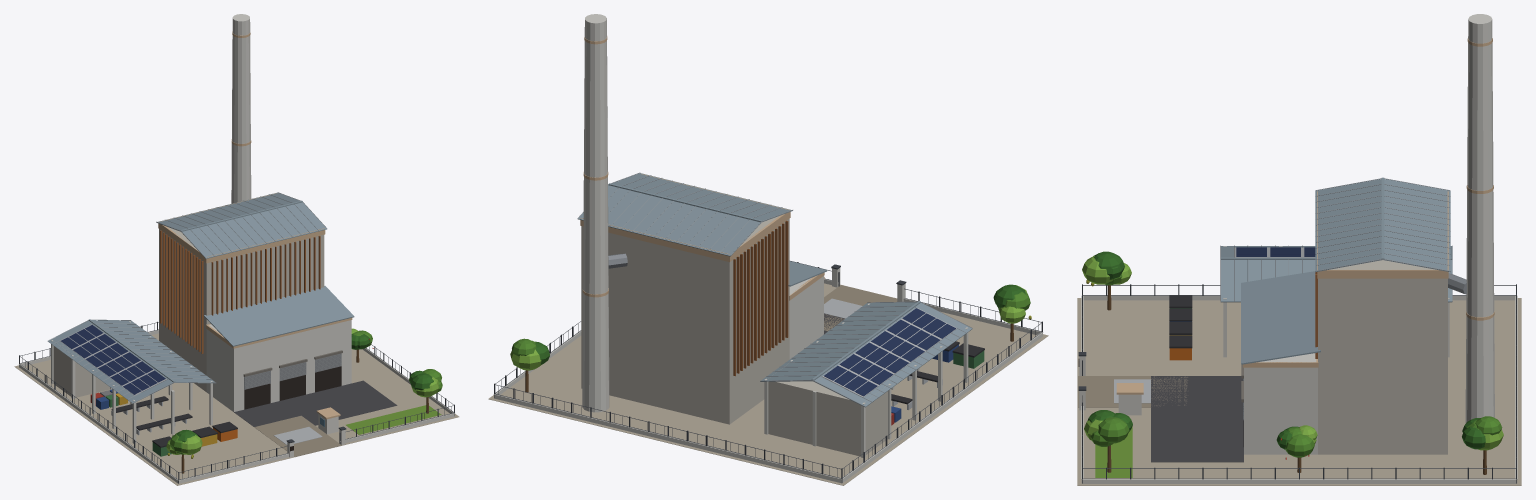
File: waste.glb
3 views of the same model, side by side, from view 1: azimuth 30°, elevation 25°; view 2: azimuth 150°, elevation 25°; view 3: azimuth 270°, elevation 25° (orthographic). The views are drawn at different scales.
Parts seen in each view (by area): view 1: body, windows; view 2: body; view 3: body.
Part boxes in pixels (x1,y1,x2,y2): body: (14,14,459,485); windows: (244,366,341,409); body: (488,14,1048,485); body: (1077,14,1521,485).
Bounding box in the file's own units: 47.9 × 50.03 × 47.9.
